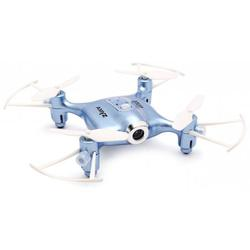drone: (3, 62, 248, 185)
